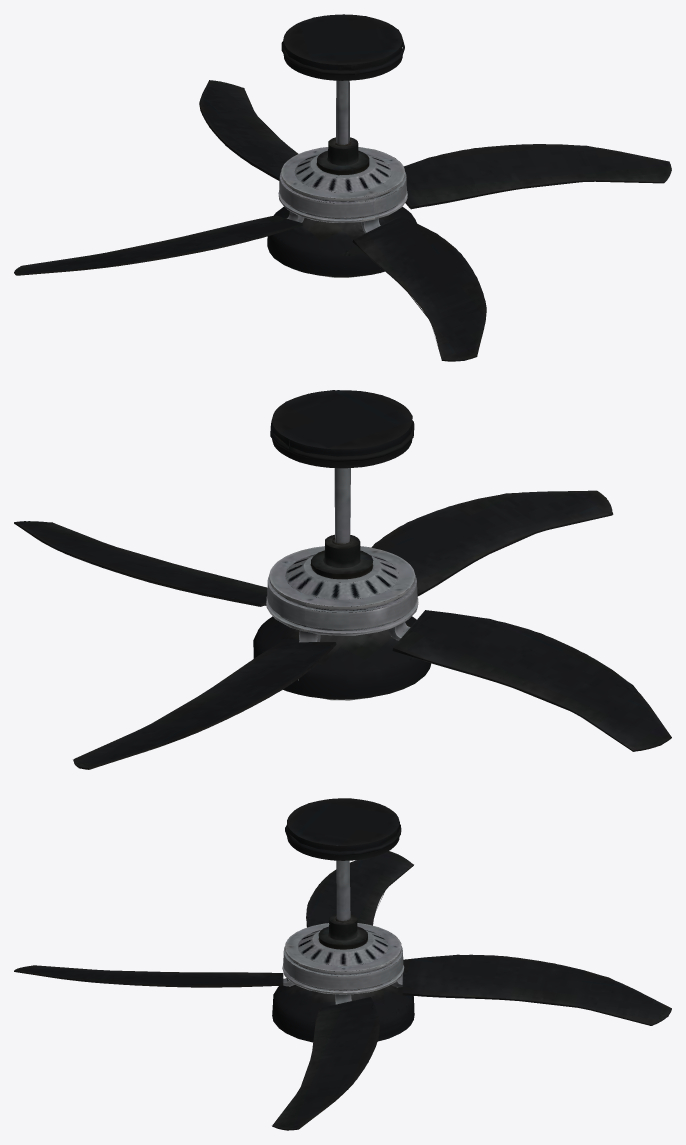
Rendered from isl_fan.glb.
3 views of the same model, one above another, from view 1: azimuth 30°, elevation 25°; view 2: azimuth 150°, elevation 25°; view 3: azimuth 270°, elevation 25° (orthographic). The views are drawn at different scales.
Parts seen in each view (by area): view 1: ceiling_fan; view 2: ceiling_fan; view 3: ceiling_fan.
Boxes of the visible parts, left/top/right/bottom form: ceiling_fan: left=14, top=14, right=671, bottom=361; ceiling_fan: left=14, top=390, right=671, bottom=769; ceiling_fan: left=14, top=798, right=671, bottom=1130.
Size of the model in its own units: 1.46 by 0.5163 by 1.46.
Materials: 1 (1 with a texture image).
